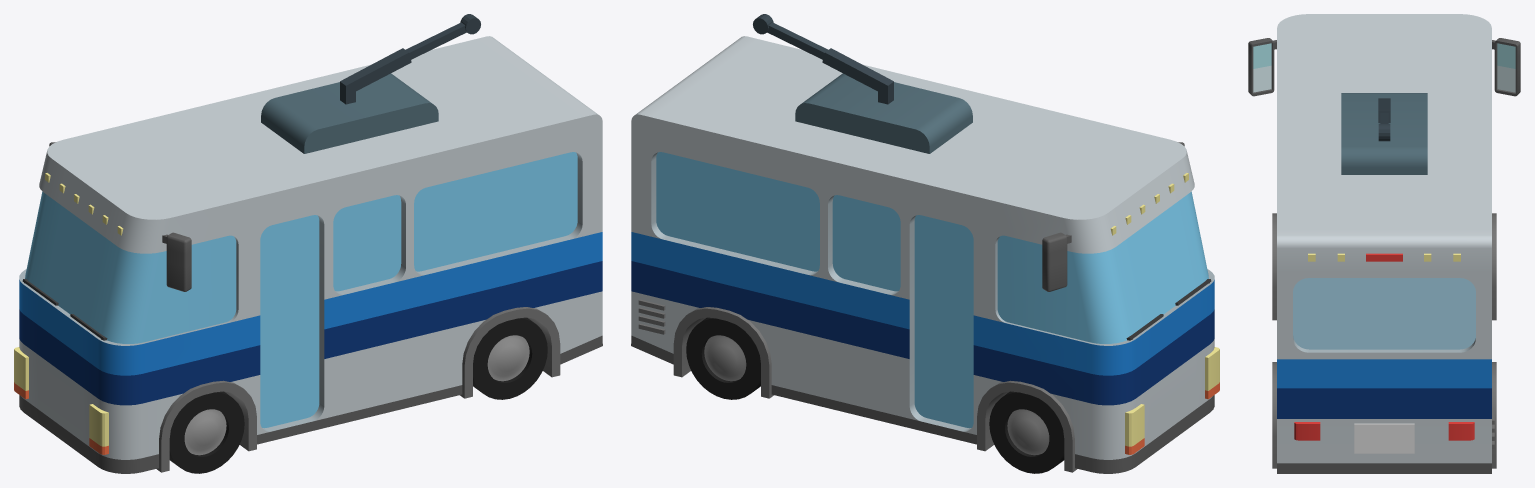
File: trolleybus.gltf
3 renders of one model, left to right at view 1: azimuth 30°, elevation 25°; view 2: azimuth 150°, elevation 25°; view 3: azimuth 270°, elevation 25°, orthographic.
Parts seen in each view (by area): view 1: Cube.615, Circle.2377, Cube.616, Cube.620, Cube.617, Cube.619; view 2: Cube.615, Circle.2377, Cube.616, Cube.620, Cube.617, Cube.619, Cube.618; view 3: Cube.615, Cube.619, Cube.616, Cube.618, Cube.617, Cube.620.
Boxes of the visible parts, x1,y1,x2,y2 form: Cube.615: [19, 36, 602, 473]; Circle.2377: [169, 317, 547, 473]; Cube.616: [156, 307, 560, 472]; Cube.620: [340, 14, 480, 104]; Cube.617: [14, 173, 123, 454]; Cube.619: [49, 142, 191, 291]; Cube.615: [631, 36, 1214, 473]; Circle.2377: [686, 317, 1064, 473]; Cube.616: [673, 307, 1077, 472]; Cube.620: [753, 14, 893, 104]; Cube.617: [1110, 173, 1219, 454]; Cube.619: [1042, 142, 1184, 291]; Cube.618: [638, 299, 665, 334]; Cube.615: [1277, 14, 1491, 473]; Cube.619: [1248, 38, 1520, 96]; Cube.616: [1272, 213, 1496, 468]; Cube.618: [1354, 408, 1494, 453]; Cube.617: [1294, 253, 1474, 440]; Cube.620: [1378, 98, 1390, 141].
Size of the model in its own units: 2.27 by 1.48 by 1.07.
1 material, 1 textured.
